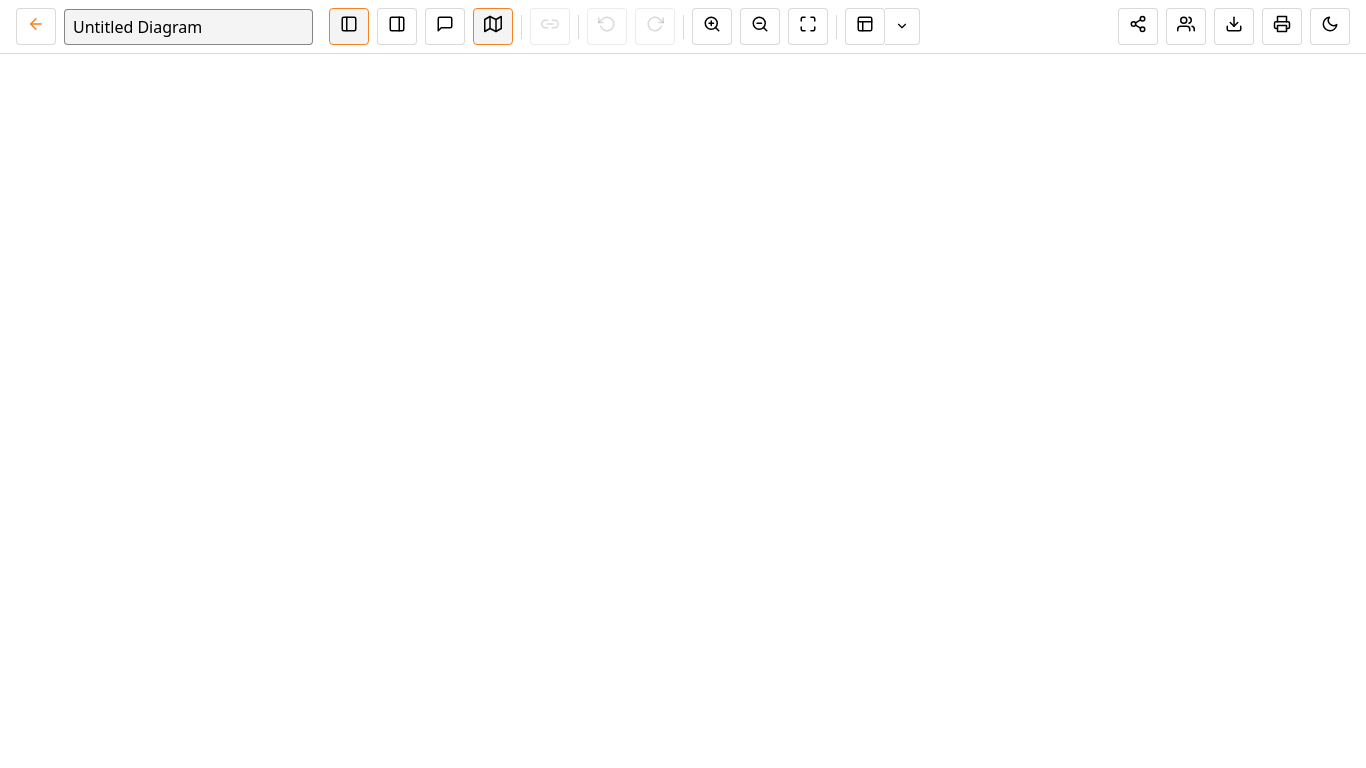
Test: Toolbar › closes the share modal
Step 1. Click the button titled "Share diagram" → [1138, 26], box [1118,8,1158,45]
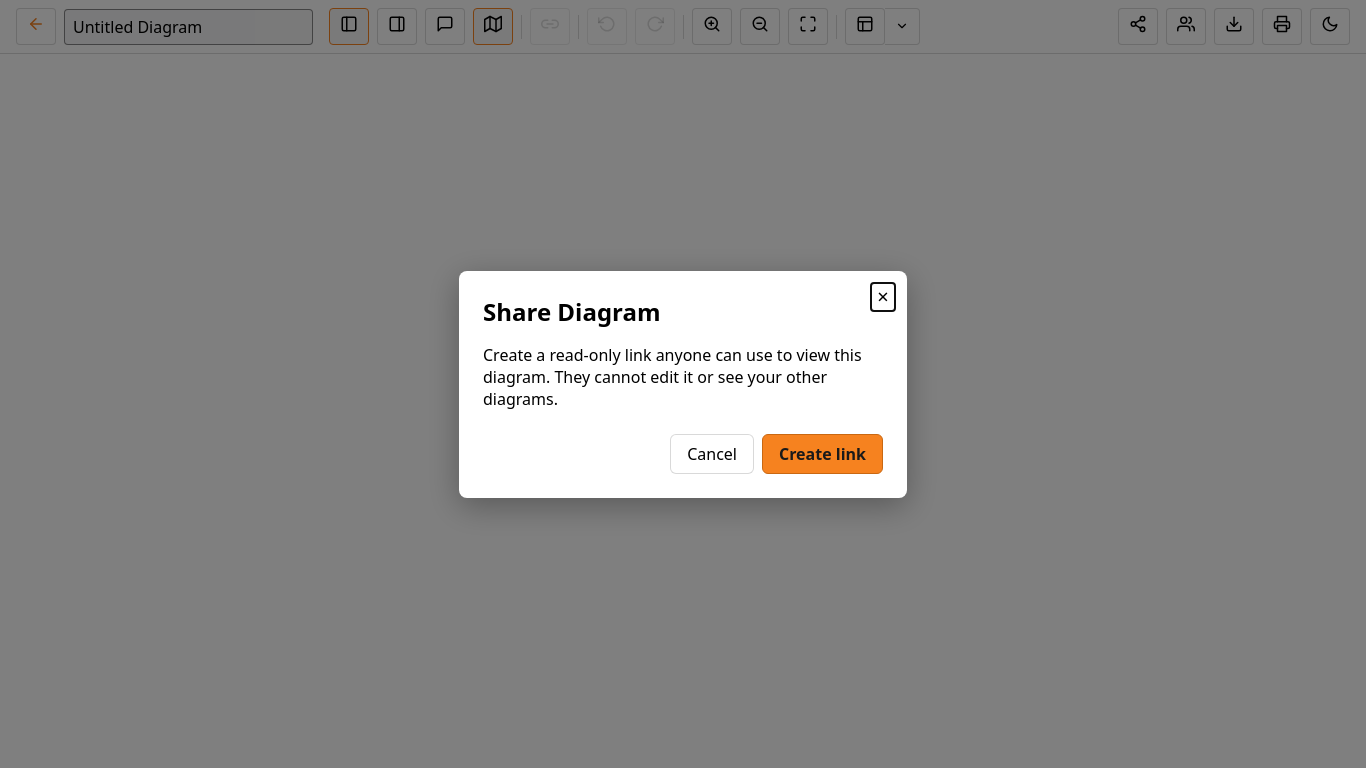
Expected: the dialog is shown, [459,270,907,498]
Step 2. Click the button named "Close" → [883, 296], box [871,282,895,310]
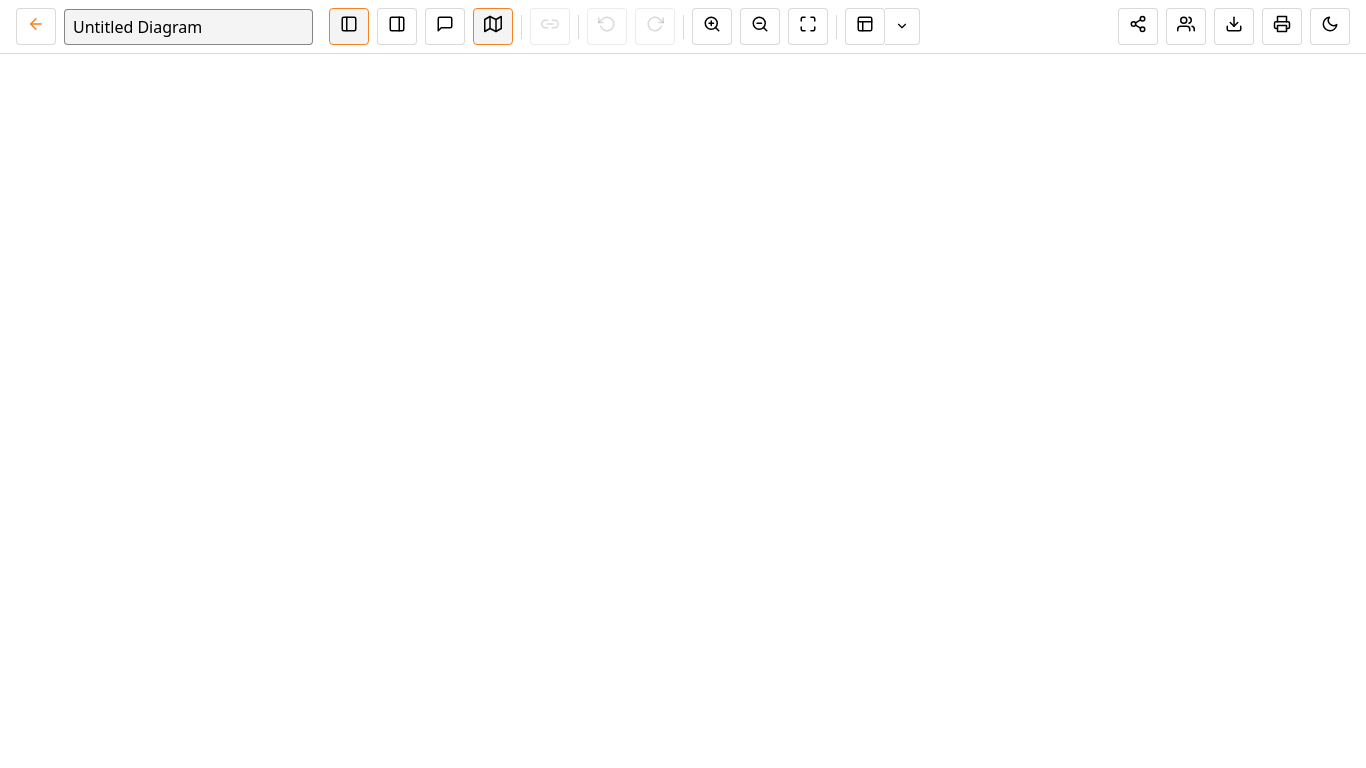
Expected: the dialog is gone
